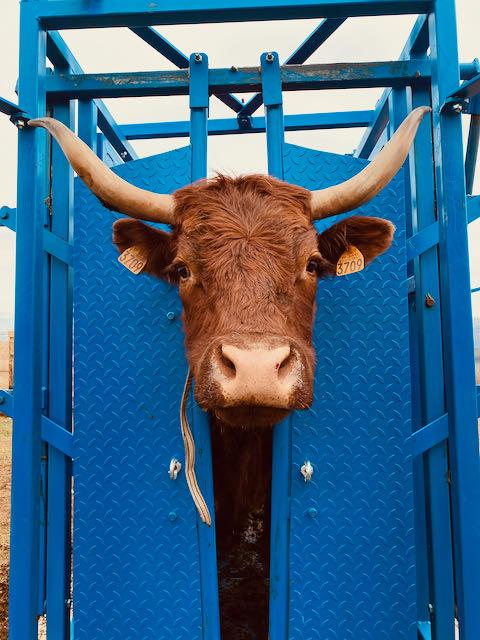muzzles: (189, 332, 318, 420)
